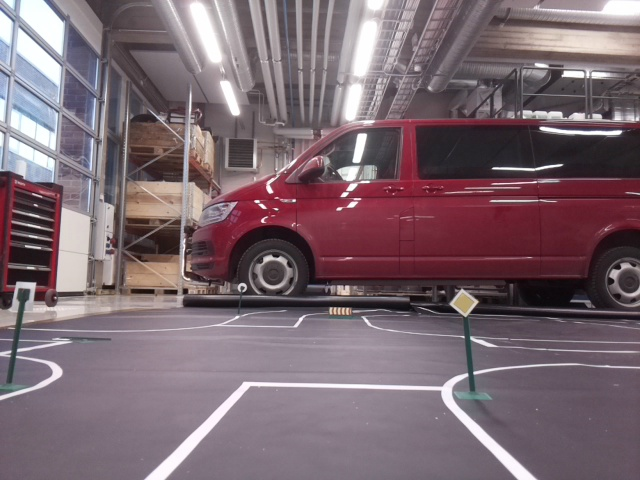Priority: (448, 289, 476, 314)
